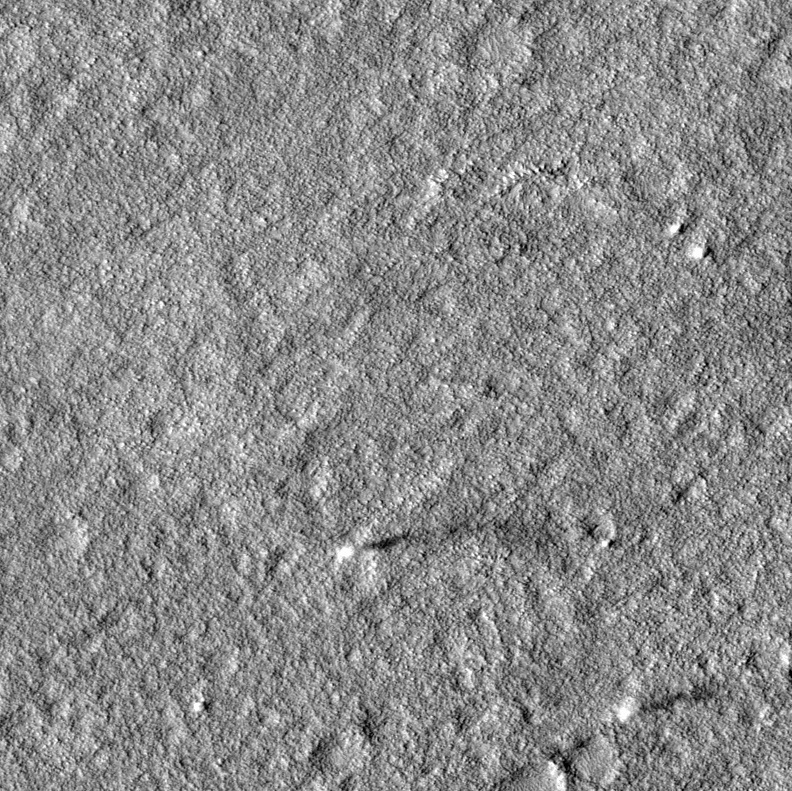dust_devil: (332, 510, 575, 579), (614, 681, 722, 727)
